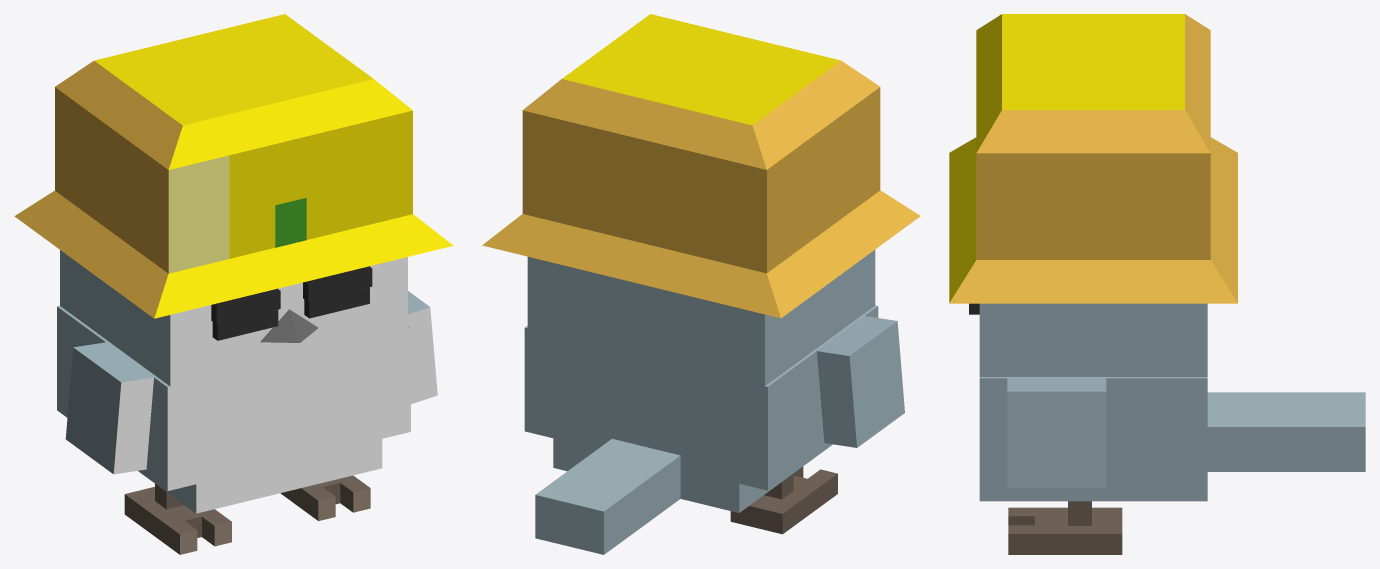
3 renders of one model, left to right at view 1: azimuth 30°, elevation 25°; view 2: azimuth 150°, elevation 25°; view 3: azimuth 270°, elevation 25°, orthographic. The views are drawn at different scales.
Visible parts, largest first — view 1: Ch_15_Head, Ch_15, Ch_15_Wing_L, Ch_15_Leg_L, Ch_15_Wing_R, Ch_15_Leg_R, Ch_15_Eye_02, Ch_15_Eye_01, Ch_15_Eye_03_L, Ch_15_Eye_03_R; view 2: Ch_15_Head, Ch_15, Ch_15_Wing_L, Ch_15_Leg_L; view 3: Ch_15_Head, Ch_15, Ch_15_Wing_R, Ch_15_Leg_R.
Part boxes in pixels (box(x1,y1,x2,y2)): Ch_15_Head: box(14, 14, 453, 386); Ch_15: box(57, 306, 410, 513); Ch_15_Wing_L: box(65, 342, 153, 474); Ch_15_Leg_L: box(124, 484, 231, 554); Ch_15_Wing_R: box(408, 291, 437, 404); Ch_15_Leg_R: box(280, 475, 370, 520); Ch_15_Eye_02: box(211, 267, 372, 324); Ch_15_Eye_01: box(232, 269, 355, 321); Ch_15_Eye_03_L: box(212, 288, 278, 340); Ch_15_Eye_03_R: box(304, 266, 370, 318); Ch_15_Head: box(482, 14, 920, 385); Ch_15: box(524, 305, 878, 554); Ch_15_Wing_L: box(817, 316, 904, 447); Ch_15_Leg_L: box(730, 466, 837, 534); Ch_15_Head: box(949, 14, 1237, 376); Ch_15: box(979, 377, 1365, 501); Ch_15_Wing_R: box(1007, 378, 1106, 488); Ch_15_Leg_R: box(1008, 501, 1122, 554).
Size of the model in its own units: 8.91 by 11.34 by 9.62.
